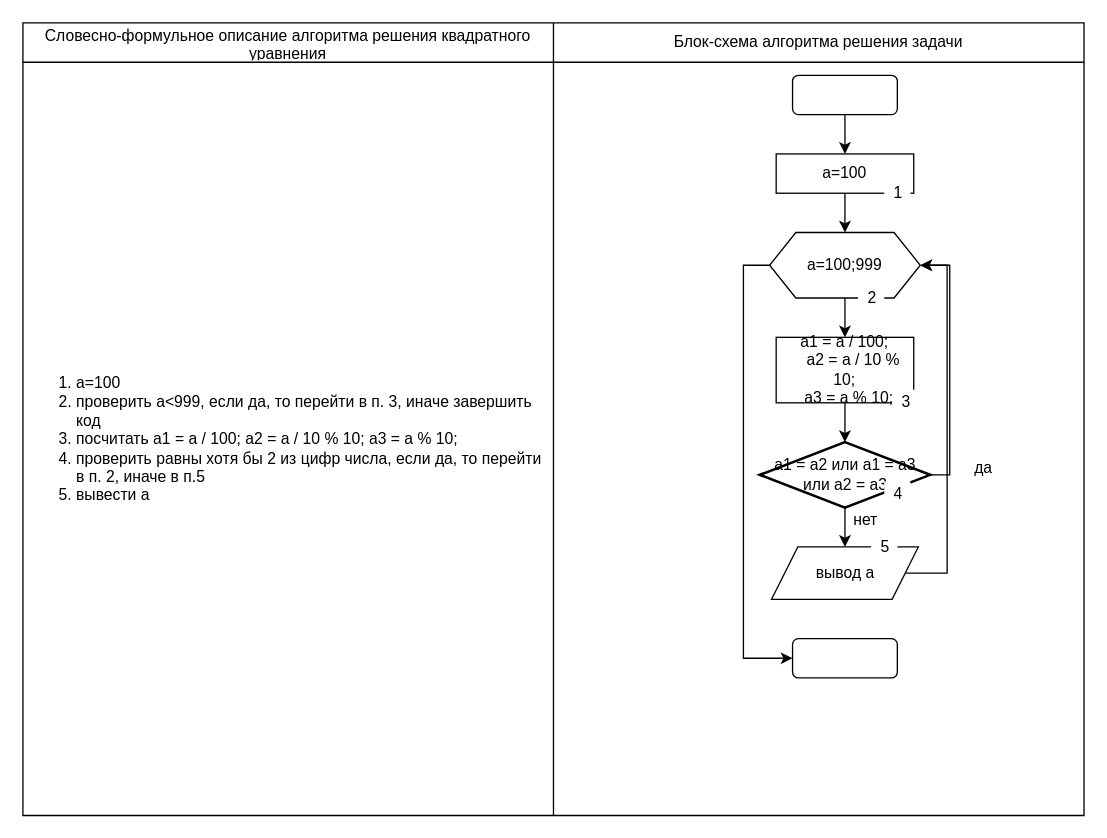
The diagram is 1107 pixels wide and 838 high, and some of its shapes have lost their labels. The centre of each missing label's shape, as x and y in pixels:
"конец" belongs at [844,657].
"начало" belongs at [844,94].
